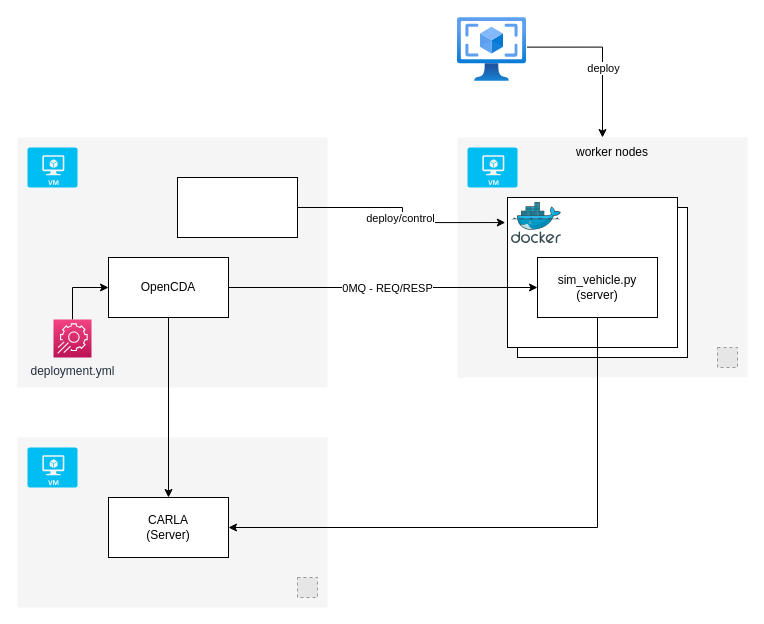
Image size: 764x624. Some labels were removed from this diagram. Grey dashed boxes stand in for pictures. The shapes that lost their labels are listed below. From the top down, each one's centre as x and y in pixels, then its label:
At (x=491, y=49): "worker image".
At (x=237, y=207): "docker_machine".
